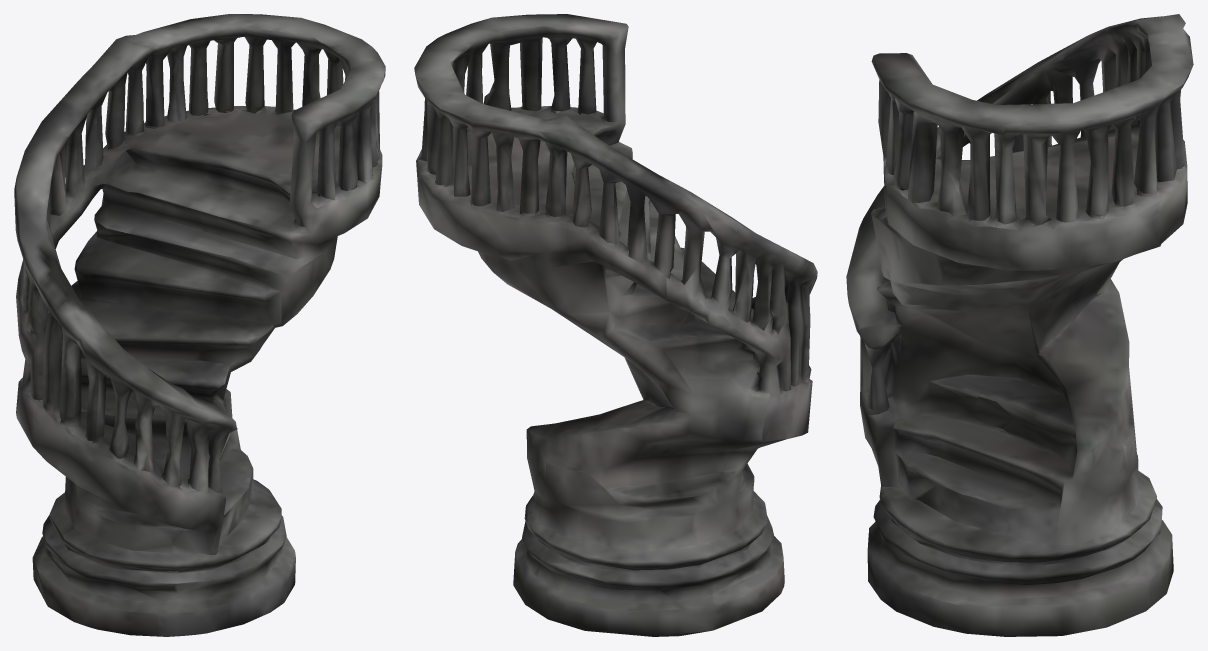
File: ornate-granite-spiral-staircase-v001.glb
3 views of the same model, side by side, from view 1: azimuth 30°, elevation 25°; view 2: azimuth 150°, elevation 25°; view 3: azimuth 270°, elevation 25° (orthographic). The views are drawn at different scales.
Parts seen in each view (by area): view 1: ornate-granite-spiral-staircase; view 2: ornate-granite-spiral-staircase; view 3: ornate-granite-spiral-staircase.
Part boxes in pixels (left/top/right/bottom): ornate-granite-spiral-staircase: left=14, top=14, right=385, bottom=636; ornate-granite-spiral-staircase: left=414, top=14, right=817, bottom=636; ornate-granite-spiral-staircase: left=846, top=14, right=1193, bottom=636.
Size of the model in its own units: 2.37 by 3.17 by 1.75.
Materials: 1 (1 with a texture image).
